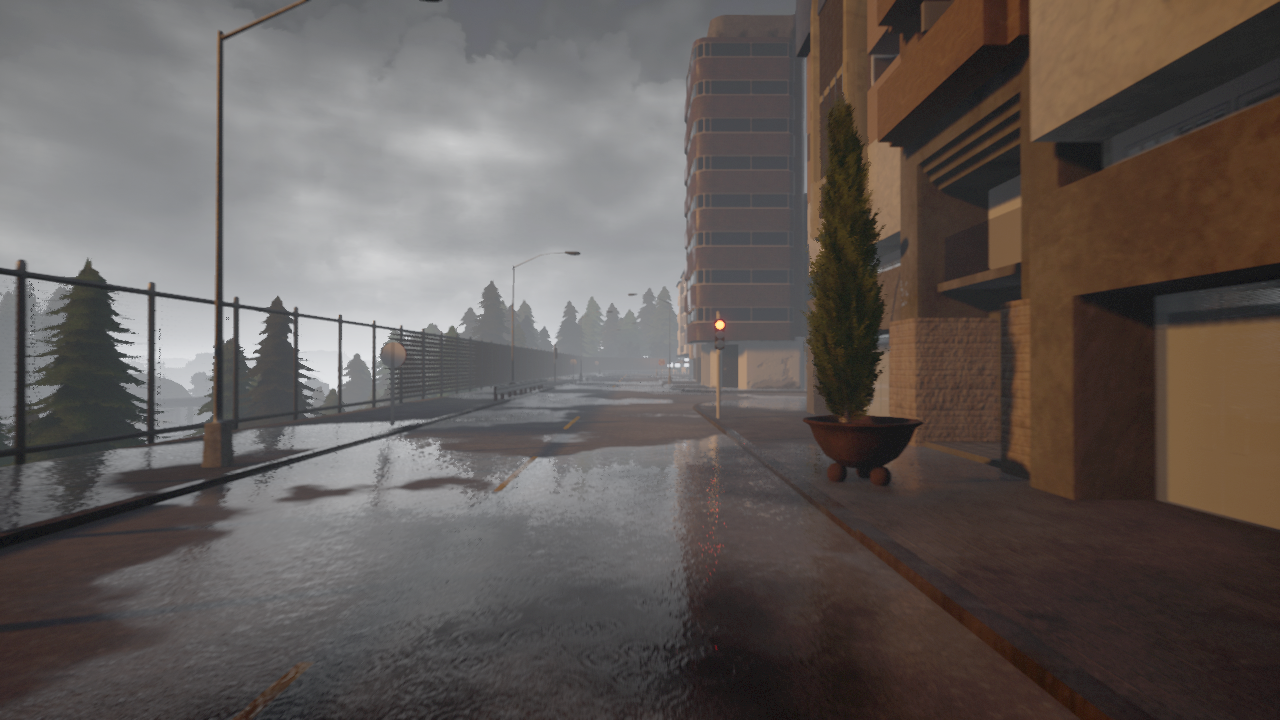red: (714, 318, 724, 350)
